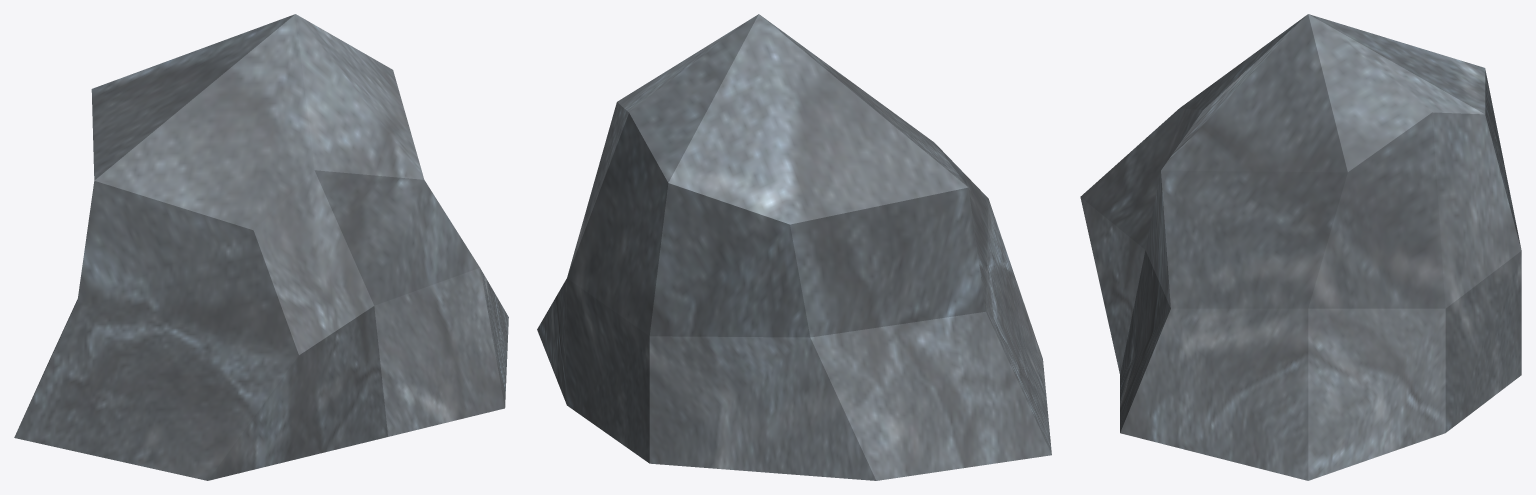
Rendered from RockA.fbx.
The picture shows the model from 3 angles, left to right: view 1: azimuth 30°, elevation 25°; view 2: azimuth 150°, elevation 25°; view 3: azimuth 270°, elevation 25°; orthographic projection. The views are drawn at different scales.
Visible parts, largest first — view 1: RockA; view 2: RockA; view 3: RockA.
Part boxes in pixels (bbox=[...]): RockA: bbox=[14, 14, 508, 480]; RockA: bbox=[537, 14, 1051, 480]; RockA: bbox=[1080, 14, 1521, 480].
Bounding box in the file's own units: 212 × 145 × 161.
